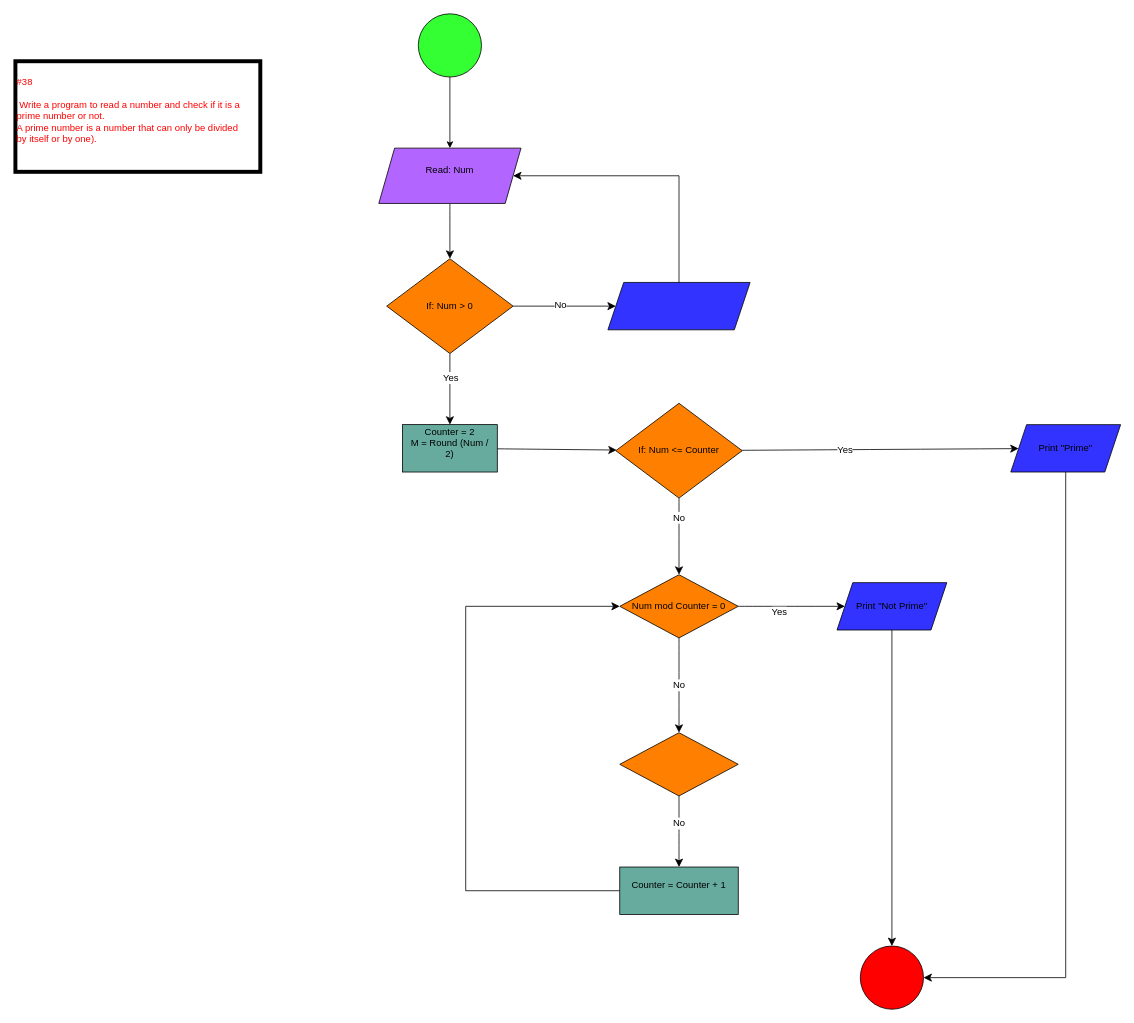
Some shapes in this 1134 by 1023 pixel diagram are drawn without their labels. The shapes that lost their labels are listed below. From the top down, each one's box as (x1, y1, x2, y2) in pixels, then its label:
(418, 13, 482, 77): Start
(607, 282, 750, 330): Print " Number must be >0 "
(619, 732, 738, 796): Counter = M
(860, 945, 924, 1009): End
